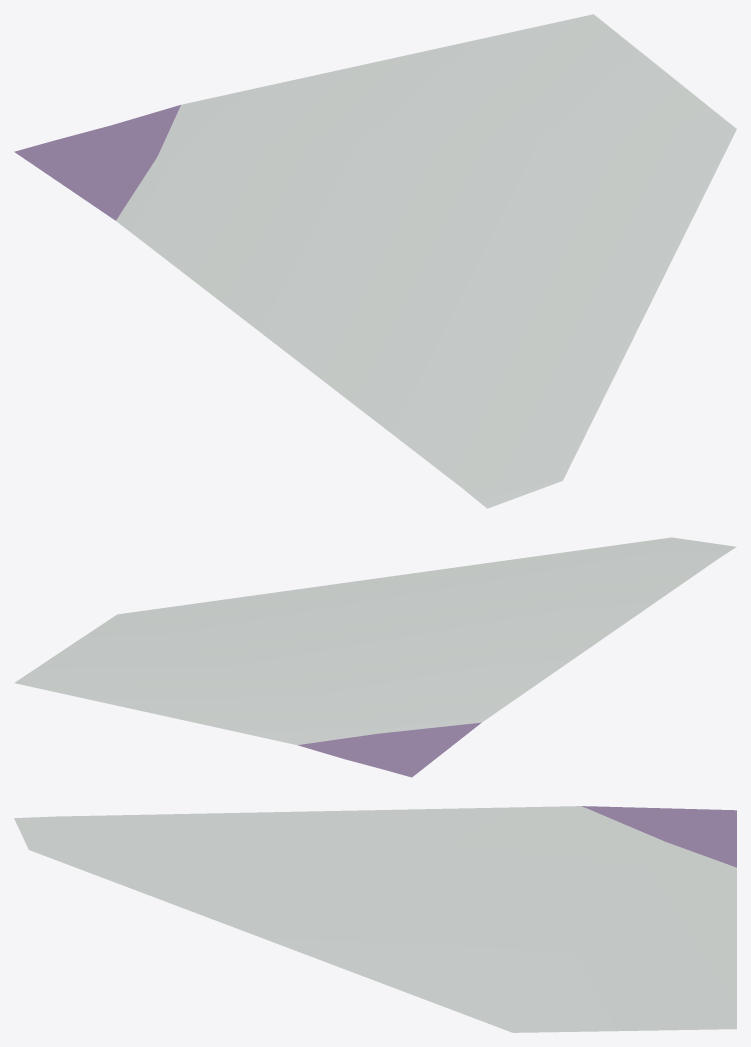
The picture shows the model from 3 angles, top to bottom: view 1: azimuth 30°, elevation 25°; view 2: azimuth 150°, elevation 25°; view 3: azimuth 270°, elevation 25°; orthographic projection. The views are drawn at different scales.
Visible parts, largest first — view 1: G:\FFXIV-MapTools\exports\m5f1\bg\ex4\02_mid_m5\fld\m5f1\bgp (×2); view 2: G:\FFXIV-MapTools\exports\m5f1\bg\ex4\02_mid_m5\fld\m5f1\bgp (×2); view 3: G:\FFXIV-MapTools\exports\m5f1\bg\ex4\02_mid_m5\fld\m5f1\bgp (×2).
Boxes of the visible parts, box(x1,y1,x2,y2) form: G:\FFXIV-MapTools\exports\m5f1\bg\ex4\02_mid_m5\fld\m5f1\bgp (×2): box(14, 14, 736, 508); G:\FFXIV-MapTools\exports\m5f1\bg\ex4\02_mid_m5\fld\m5f1\bgp (×2): box(14, 537, 736, 777); G:\FFXIV-MapTools\exports\m5f1\bg\ex4\02_mid_m5\fld\m5f1\bgp (×2): box(14, 806, 736, 1032).
Size of the model in its own units: 30.19 by 0.8334 by 42.71.
